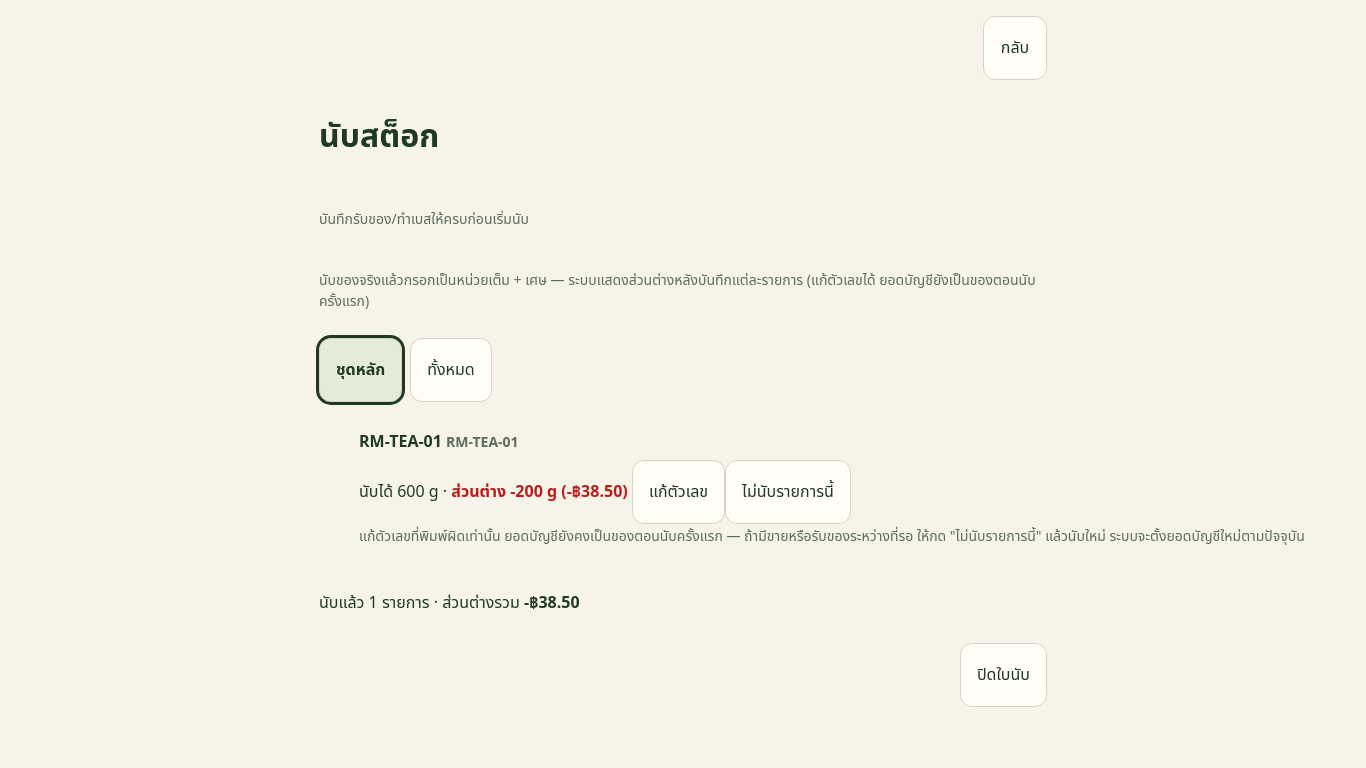
Test case: CountScreen — "แก้ตัวเลข" reopens pre-filled with the saved value, "ยกเลิก" backs out untouched, and "ไม่นับรายการนี้" is the real recount path (review I-2 · m- › "ไม่นับรายการนี้" removes the draft line and returns the row to an unsaved, editable state — the real recount path
Click the button with test id "count-remove-RM-TEA-01" at (788, 492), box left=725, top=460, right=851, bottom=524
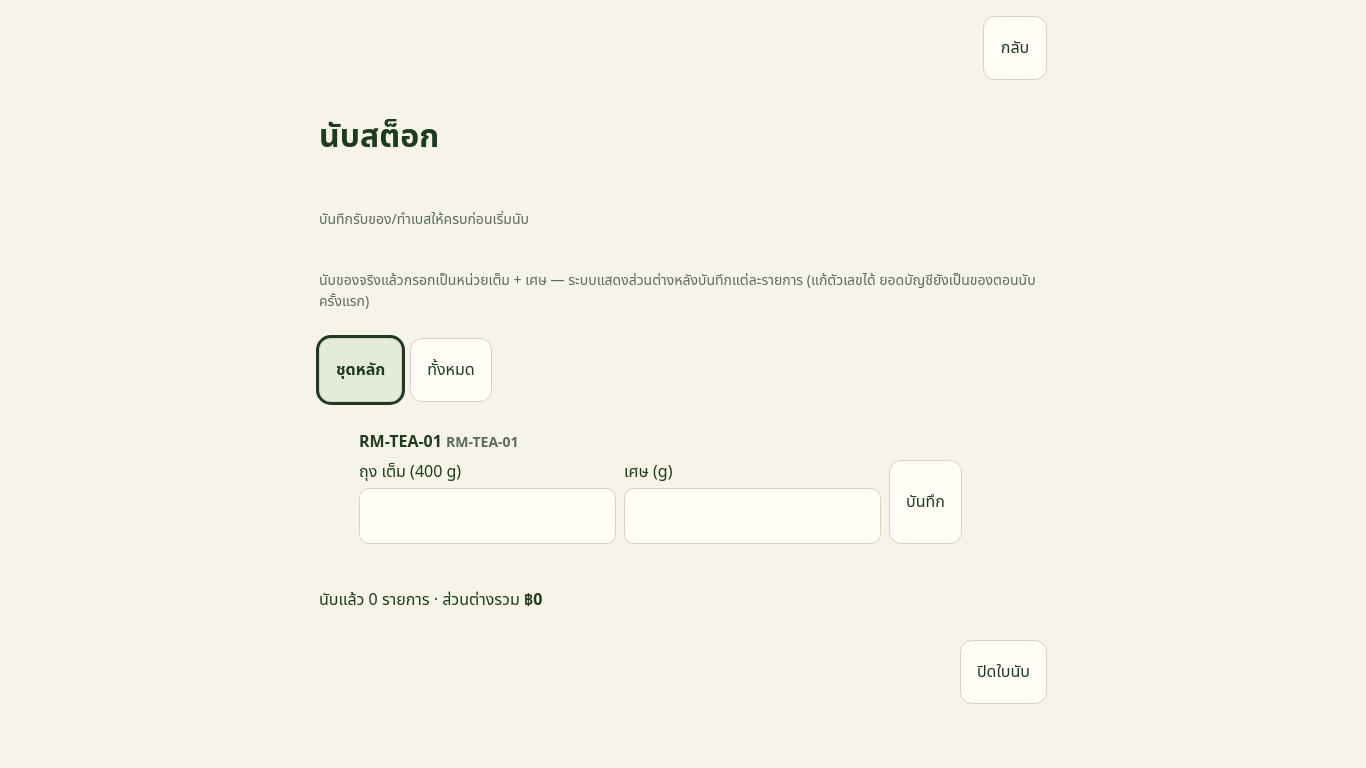
Expected: the field with test id "count-units-RM-TEA-01" is shown, left=359, top=488, right=616, bottom=544
Expected: the text with test id "count-counted-RM-TEA-01" is gone
Expected: the text with test id "count-variance-RM-TEA-01" is gone
